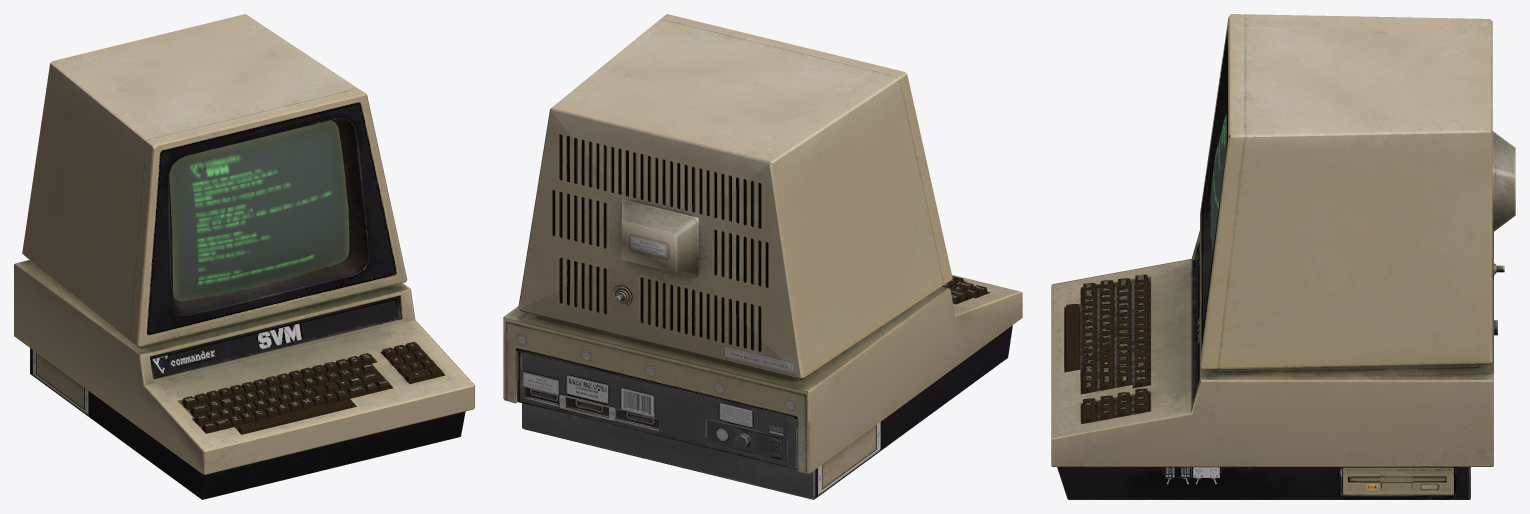
Rendered from SM_Computer_02b.gltf.
The picture shows the model from 3 angles, left to right: view 1: azimuth 30°, elevation 25°; view 2: azimuth 150°, elevation 25°; view 3: azimuth 270°, elevation 25°; orthographic projection. The views are drawn at different scales.
Visible parts, largest first — view 1: SM_Computer_02b; view 2: SM_Computer_02b; view 3: SM_Computer_02b.
Part boxes in pixels (x1,y1,x2,y2): SM_Computer_02b: (14,14,474,499); SM_Computer_02b: (503,14,1022,499); SM_Computer_02b: (1051,14,1515,499).
Size of the model in its own units: 0.4977 by 0.5184 by 0.6221.
1 material, 1 textured.
